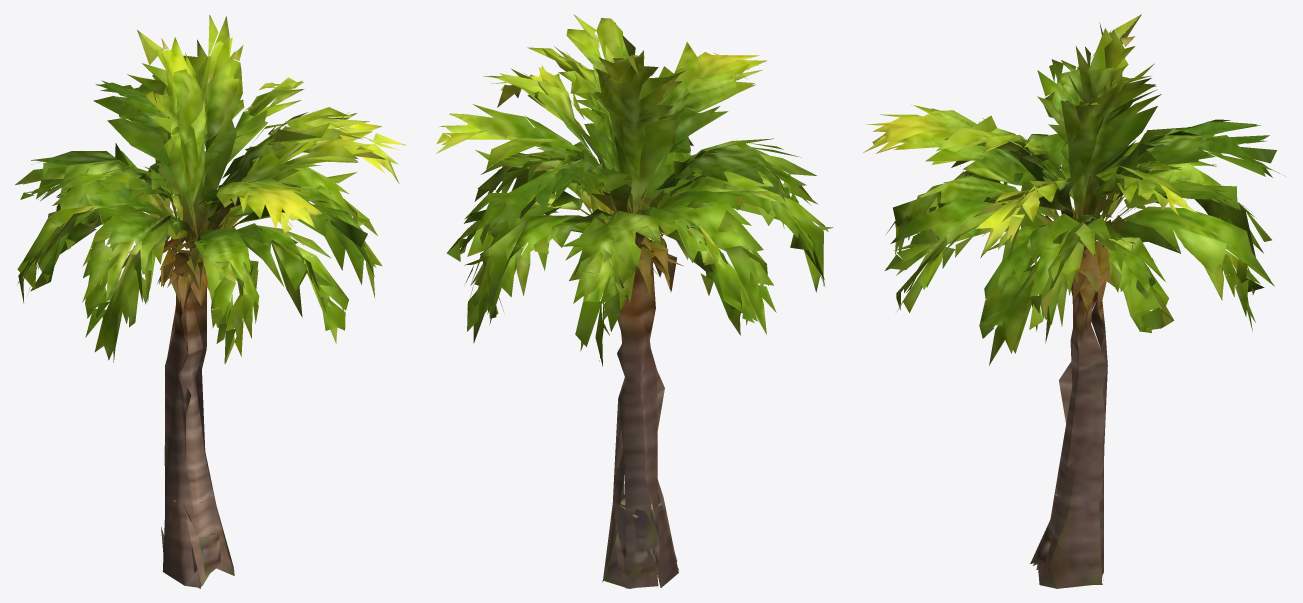
The model's file is meshy-palm-m0-lod.glb.
The picture shows the model from 3 angles, left to right: view 1: azimuth 30°, elevation 25°; view 2: azimuth 150°, elevation 25°; view 3: azimuth 270°, elevation 25°; orthographic projection. The views are drawn at different scales.
Visible parts, largest first — view 1: mesh_node; view 2: mesh_node; view 3: mesh_node.
Part boxes in pixels (<box>): mesh_node: <box>15,15,405,588</box>; mesh_node: <box>436,14,832,588</box>; mesh_node: <box>863,14,1285,588</box>.
Bounding box in the file's own units: 1.3 × 1.91 × 1.35.
1 material, 1 textured.
